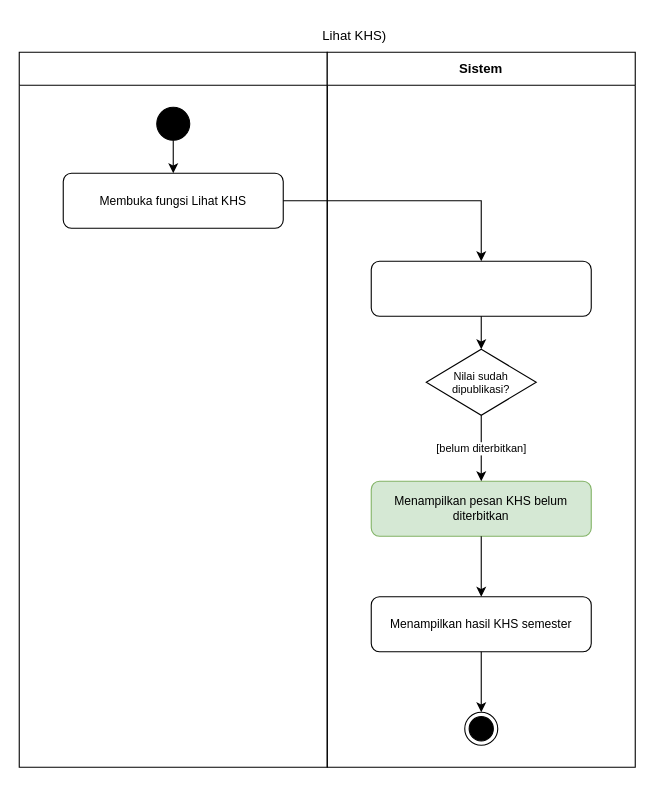
Some shapes in this 655 by 787 pixel diagram are drawn without their labels. The box of each missing label's shape, as (x1, y1, x2, y2) in pixels:
Mahasiswa: (18, 51, 327, 767)
Memeriksa status publikasi nilai: (370, 260, 591, 316)
